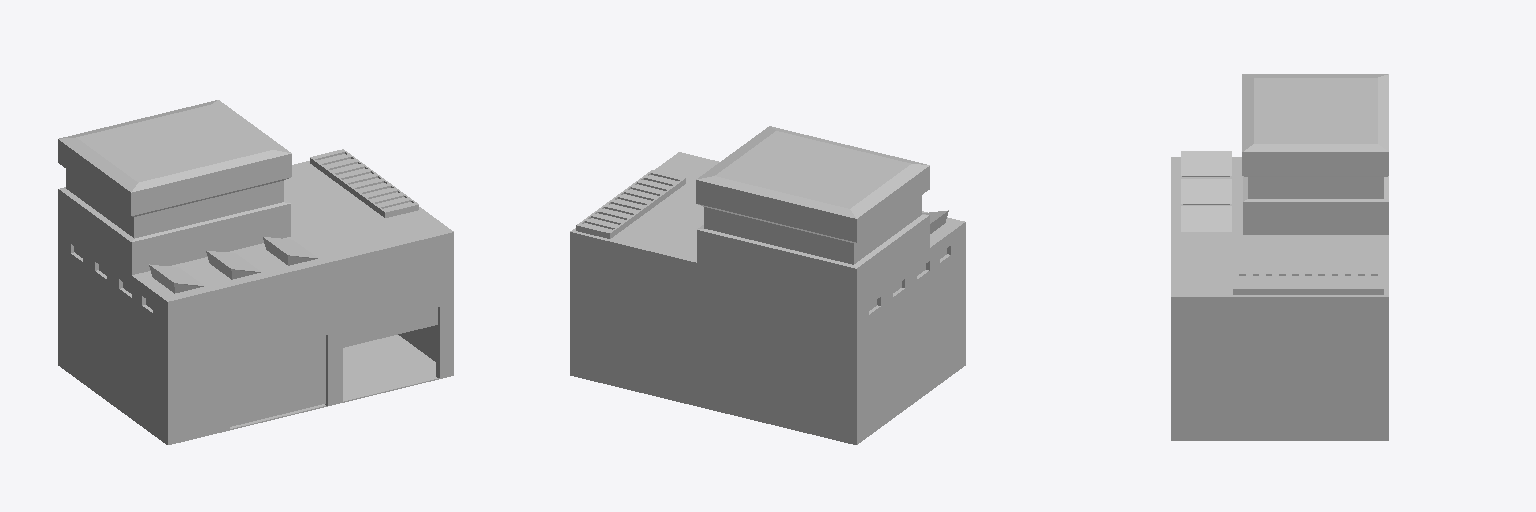
File: building2.obj
3 views of the same model, side by side, from view 1: azimuth 30°, elevation 25°; view 2: azimuth 150°, elevation 25°; view 3: azimuth 270°, elevation 25° (orthographic).
Parts seen in each view (by area): view 1: Cube.337_Cube.398; view 2: Cube.337_Cube.398; view 3: Cube.337_Cube.398.
Boxes of the visible parts, <box> form: Cube.337_Cube.398: <box>58,100,453,444</box>; Cube.337_Cube.398: <box>570,126,965,444</box>; Cube.337_Cube.398: <box>1171,74,1388,440</box>.
Bounding box in the file's own units: 23.25 × 17.75 × 15.36.